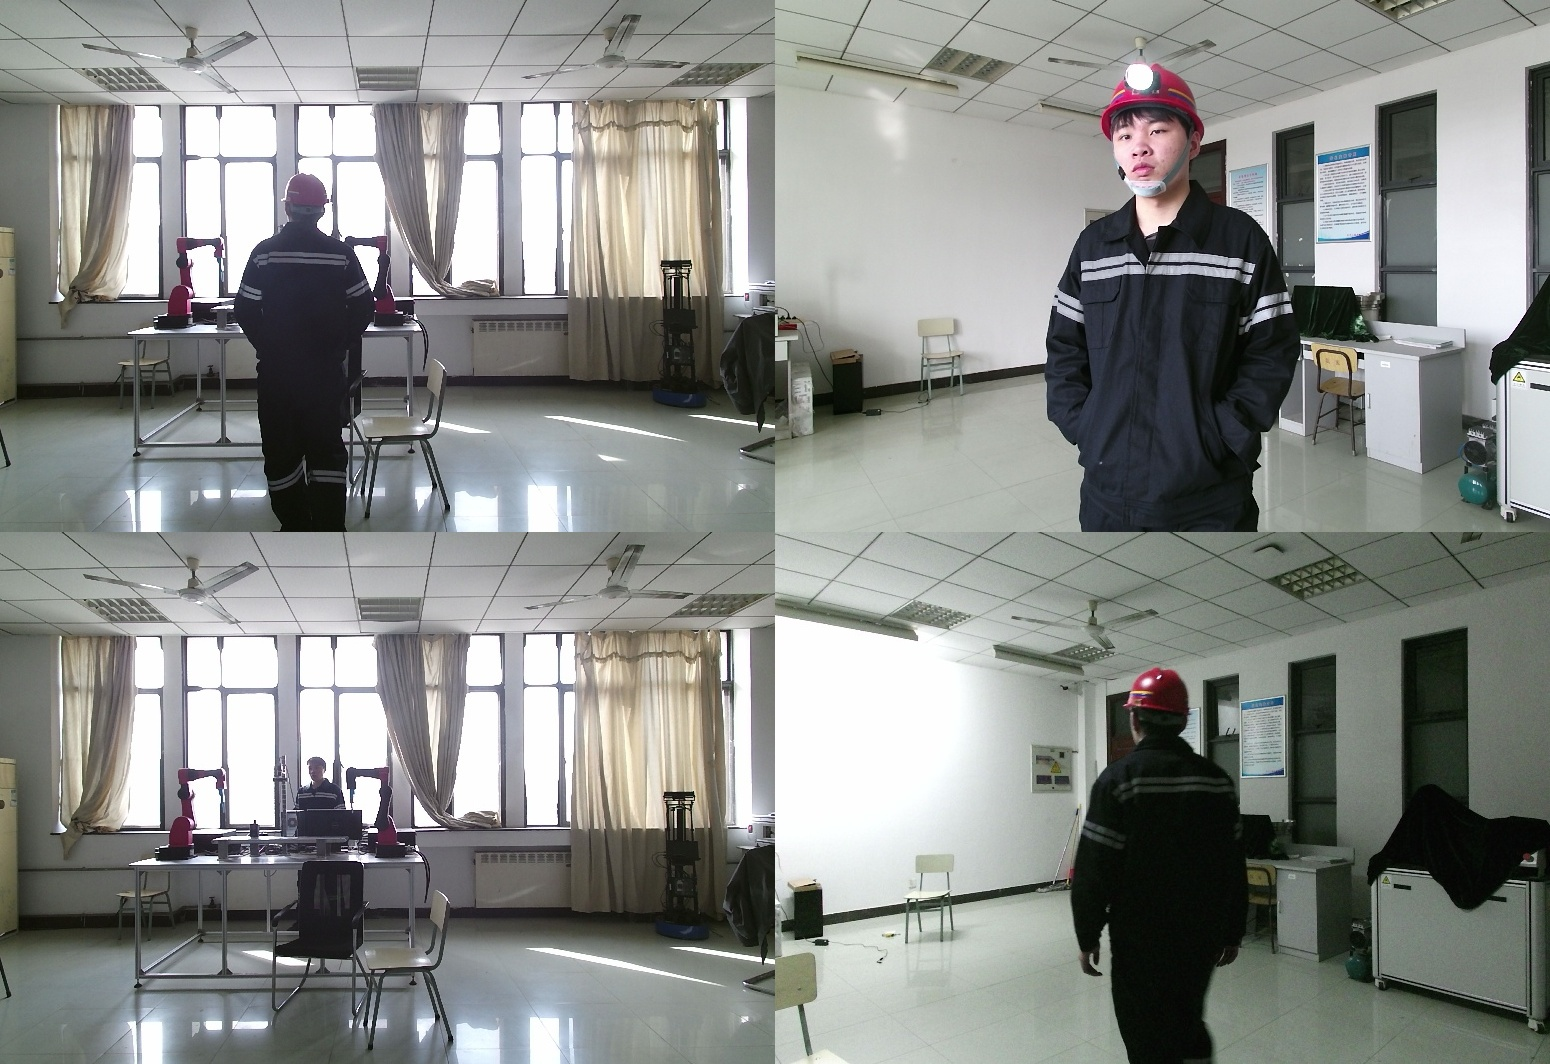person: (1047, 63, 1325, 532), (1071, 669, 1265, 1064), (236, 176, 377, 532), (288, 759, 358, 839)
